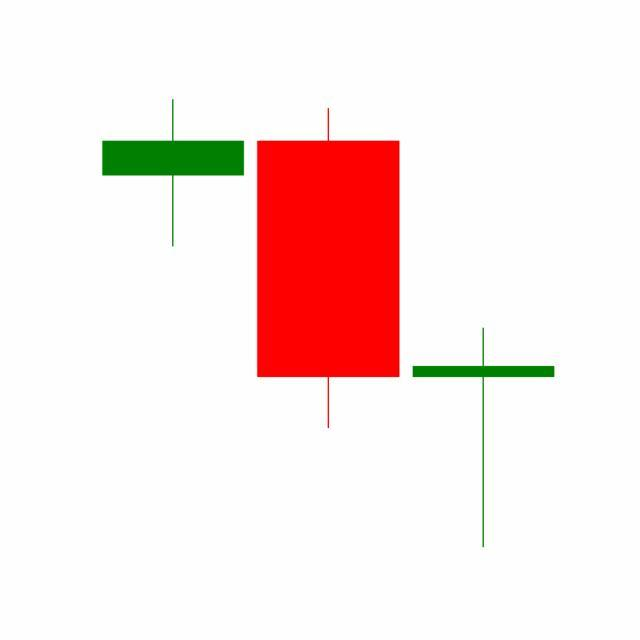Spinning Top: (406, 325, 562, 551)
